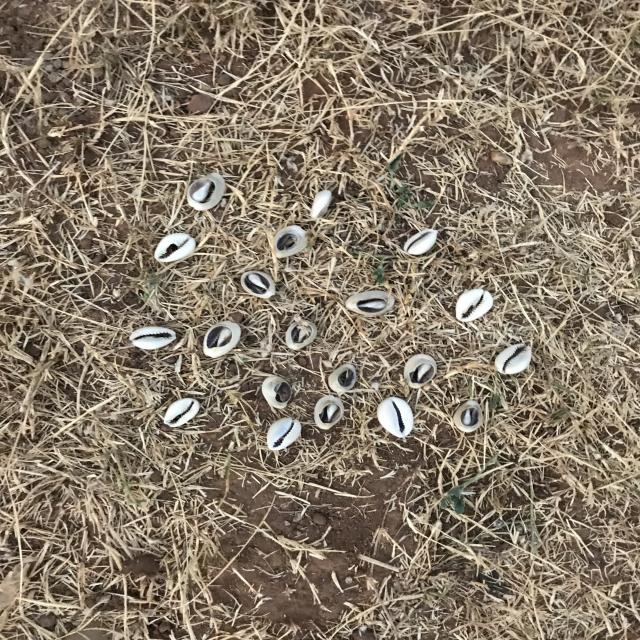facedown: (184, 172, 233, 214), (395, 351, 445, 391), (198, 320, 244, 360), (344, 288, 400, 320), (258, 371, 299, 412), (309, 393, 350, 432), (271, 224, 314, 260), (238, 268, 283, 302), (285, 317, 321, 355), (452, 396, 486, 435), (329, 361, 363, 396), (307, 188, 337, 222)
faceup: (374, 396, 424, 442), (449, 286, 498, 324), (149, 230, 200, 265), (124, 324, 183, 354), (263, 416, 308, 452), (492, 342, 536, 377), (403, 226, 446, 260), (160, 396, 200, 430)
